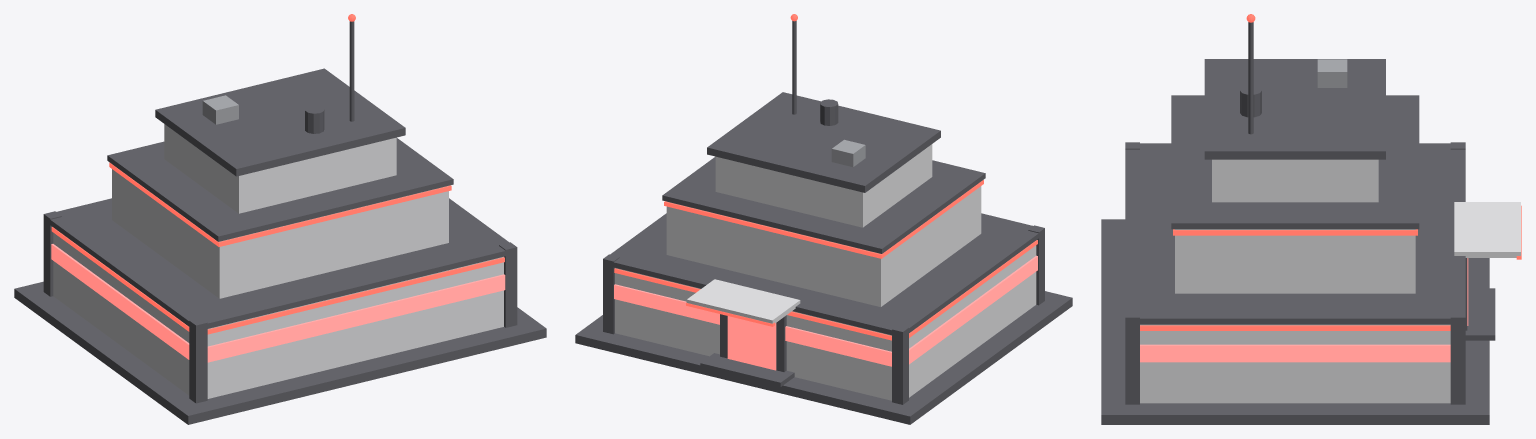
The model's file is jp_command_center.glb.
3 views of the same model, side by side, from view 1: azimuth 30°, elevation 25°; view 2: azimuth 150°, elevation 25°; view 3: azimuth 270°, elevation 25° (orthographic). The views are drawn at different scales.
Parts seen in each view (by area): view 1: Tier1, Tier2, Trim1, RoofSlab, Pad, Trim2, Tier3, WinB, Strip1, WinR, Strip2, Fin (+5 smaller); view 2: Tier2, Tier1, Trim1, RoofSlab, Pad, Trim2, Tier3, WinF, Canopy, Door, WinR, Strip1 (+9 smaller); view 3: Trim1, Tier1, RoofSlab, Pad, Trim2, Tier2, Tier3, WinL, Canopy, Strip1, Step, Fin.003 (+5 smaller).
Part boxes in pixels (x1,y1,x2,y2): Tier1: [53, 233, 503, 398]; Tier2: [112, 169, 448, 298]; Trim1: [43, 198, 517, 331]; RoofSlab: [155, 68, 405, 176]; Pad: [14, 281, 546, 424]; Trim2: [107, 138, 453, 241]; Tier3: [164, 124, 396, 213]; WinB: [207, 274, 505, 362]; Strip1: [51, 227, 504, 334]; WinR: [51, 244, 189, 359]; Strip2: [109, 162, 451, 246]; Fin: [189, 318, 207, 403]; Tier2: [666, 186, 981, 306]; Tier1: [615, 245, 1036, 400]; Trim1: [603, 213, 1044, 337]; RoofSlab: [707, 92, 940, 192]; Pad: [575, 291, 1072, 424]; Trim2: [662, 156, 985, 253]; Tier3: [715, 144, 932, 227]; WinF: [614, 284, 891, 366]; Canopy: [686, 279, 800, 323]; Door: [727, 316, 776, 370]; WinR: [909, 255, 1037, 364]; Strip1: [614, 240, 1037, 340]; Trim1: [1125, 143, 1465, 324]; Tier1: [1140, 324, 1450, 403]; RoofSlab: [1204, 59, 1385, 159]; Pad: [1101, 219, 1489, 424]; Trim2: [1171, 95, 1419, 229]; Tier2: [1175, 229, 1415, 293]; Tier3: [1212, 159, 1378, 202]; WinL: [1140, 344, 1450, 362]; Canopy: [1454, 202, 1520, 257]; Strip1: [1140, 325, 1450, 330]; Step: [1465, 288, 1495, 340]; Fin.003: [1450, 311, 1465, 404].
Bounding box in the file's own units: 12.5 × 10.17 × 11.37.
